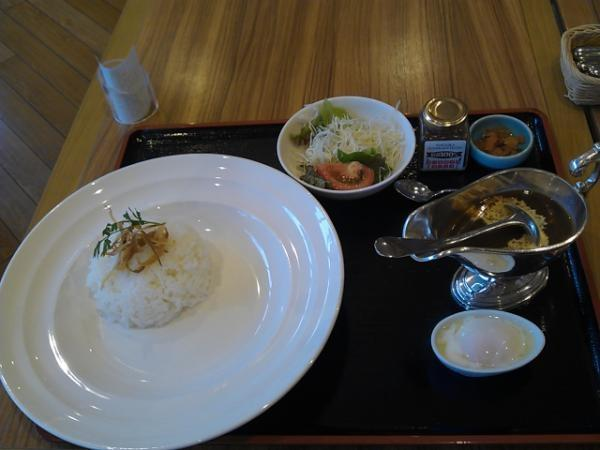plate: (277, 96, 415, 198)
rice: (86, 223, 220, 328)
